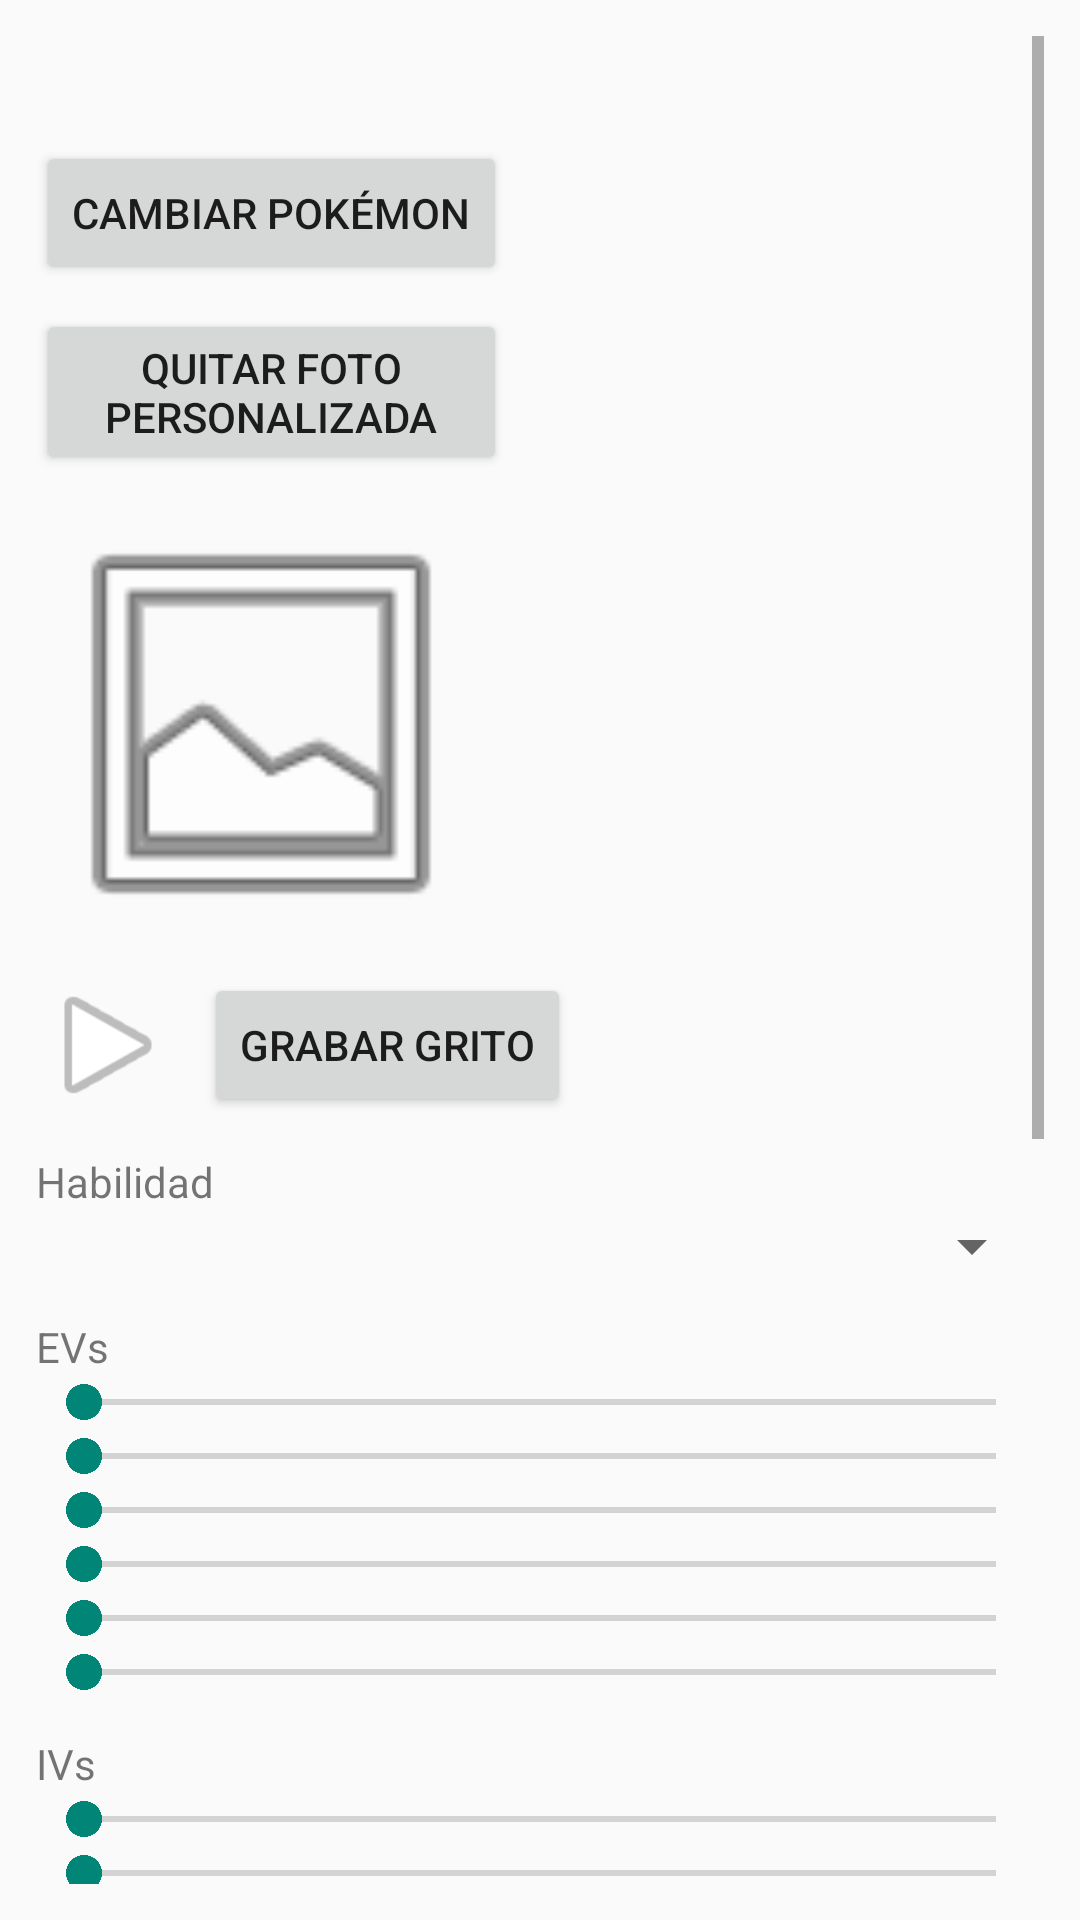

Locate icon controls on the screen. Image size 1080x1920, boxes as (x1, y1, x2, y2).
gallery: (91, 554, 431, 894)
play: (64, 997, 152, 1093)
